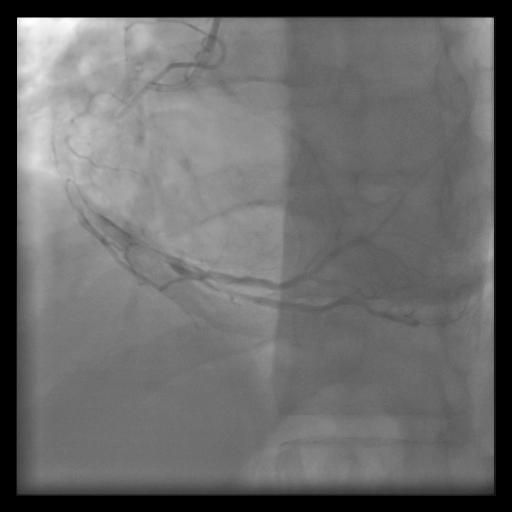Stenosis: (138, 235, 176, 267)
